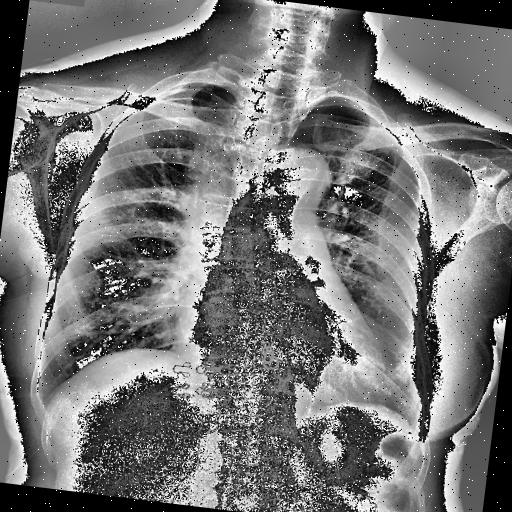0- Aortic enlargement: (252, 141, 337, 234), (258, 142, 330, 231), (264, 143, 330, 205)
3- Cardiomegaly: (164, 294, 390, 406), (167, 310, 394, 408), (172, 318, 392, 403)
9- Other lesion: (163, 64, 331, 434), (184, 134, 278, 317)
